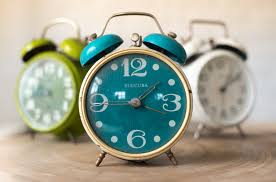alarm_clock: (13, 12, 254, 166), (18, 12, 254, 166)
